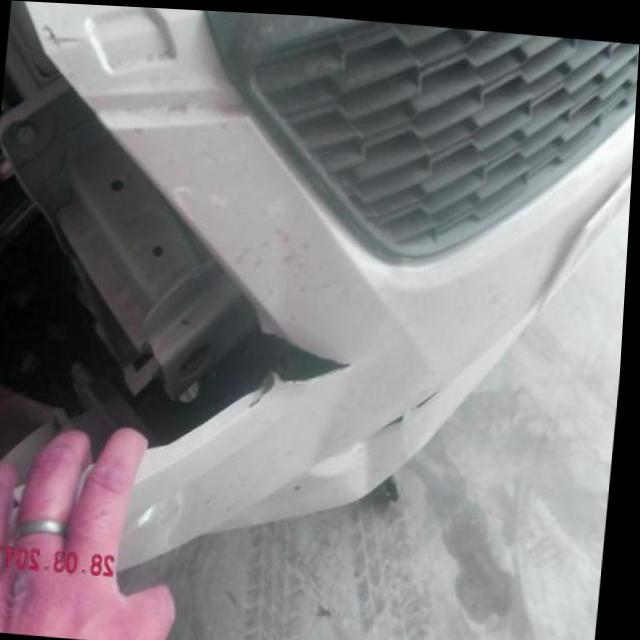Car-Damage: (0, 0, 380, 512)
